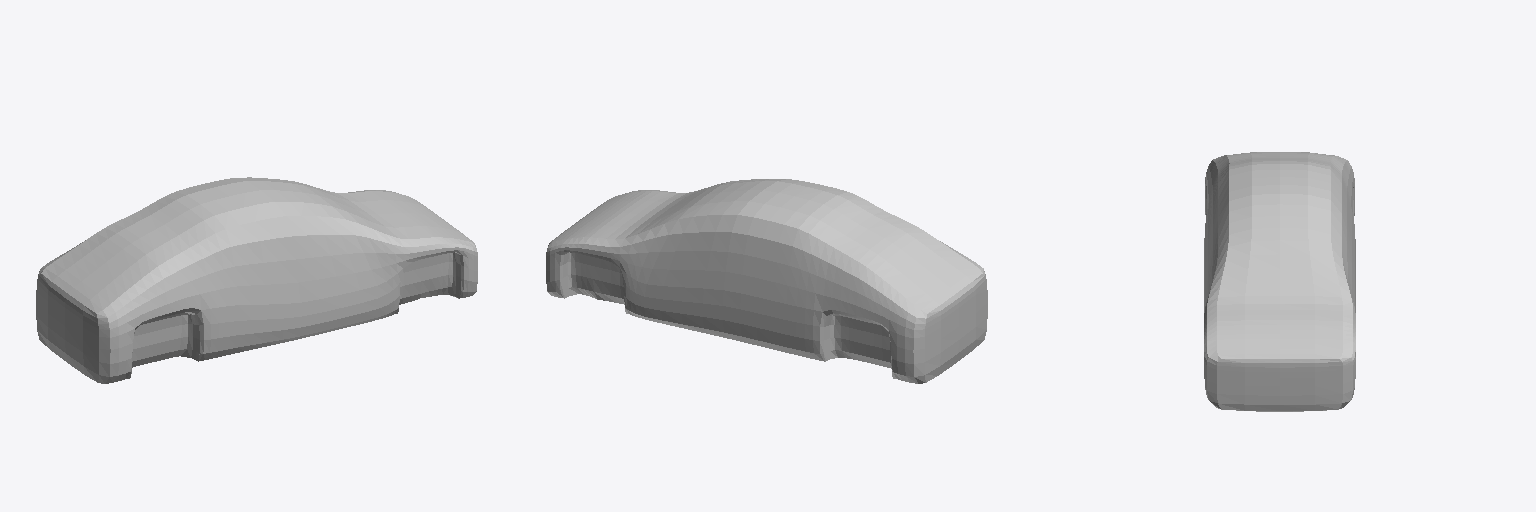
File: body.obj
3 views of the same model, side by side, from view 1: azimuth 30°, elevation 25°; view 2: azimuth 150°, elevation 25°; view 3: azimuth 270°, elevation 25° (orthographic).
Parts seen in each view (by area): view 1: Cube; view 2: Cube; view 3: Cube.
Part boxes in pixels (bbox=[...]): Cube: bbox=[36, 177, 477, 383]; Cube: bbox=[546, 179, 987, 383]; Cube: bbox=[1204, 152, 1355, 411].
Size of the model in its own units: 5.57 by 1.84 by 1.92.